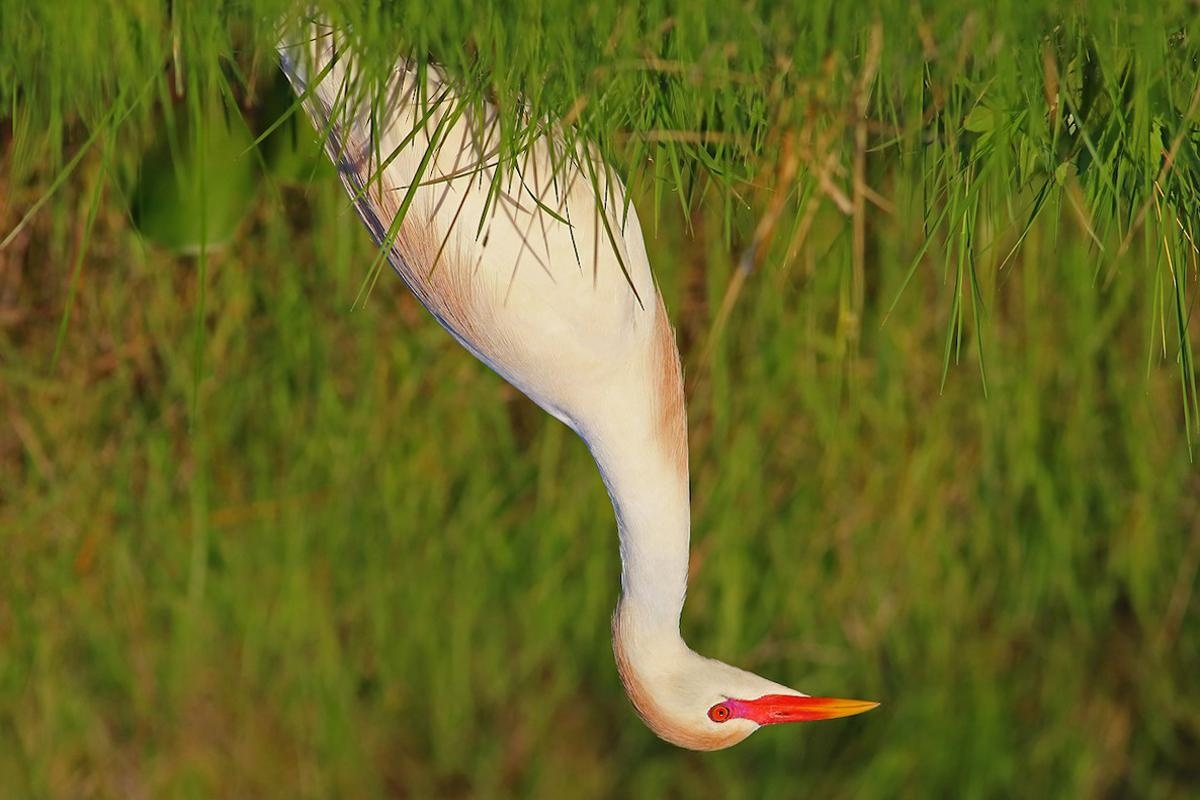egret: (336, 58, 881, 750)
